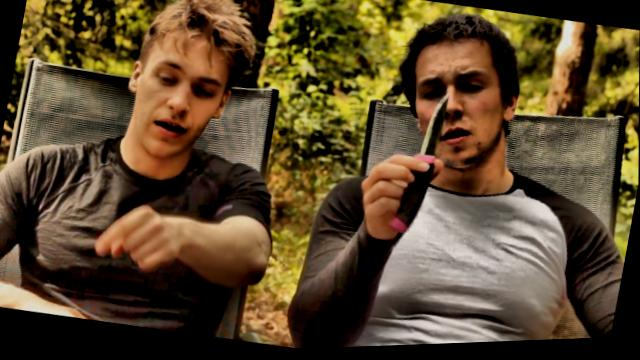knife: (367, 77, 458, 249)
